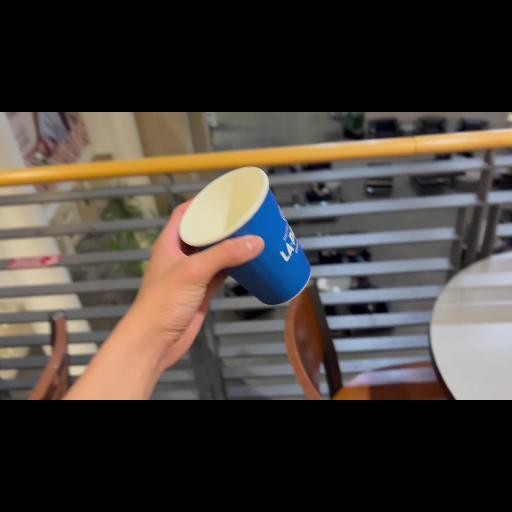lp_paper_cup: (180, 163, 314, 305)
